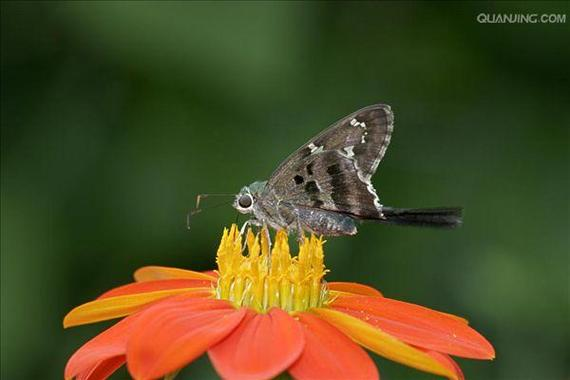Hesperiidae: (182, 101, 469, 231)
